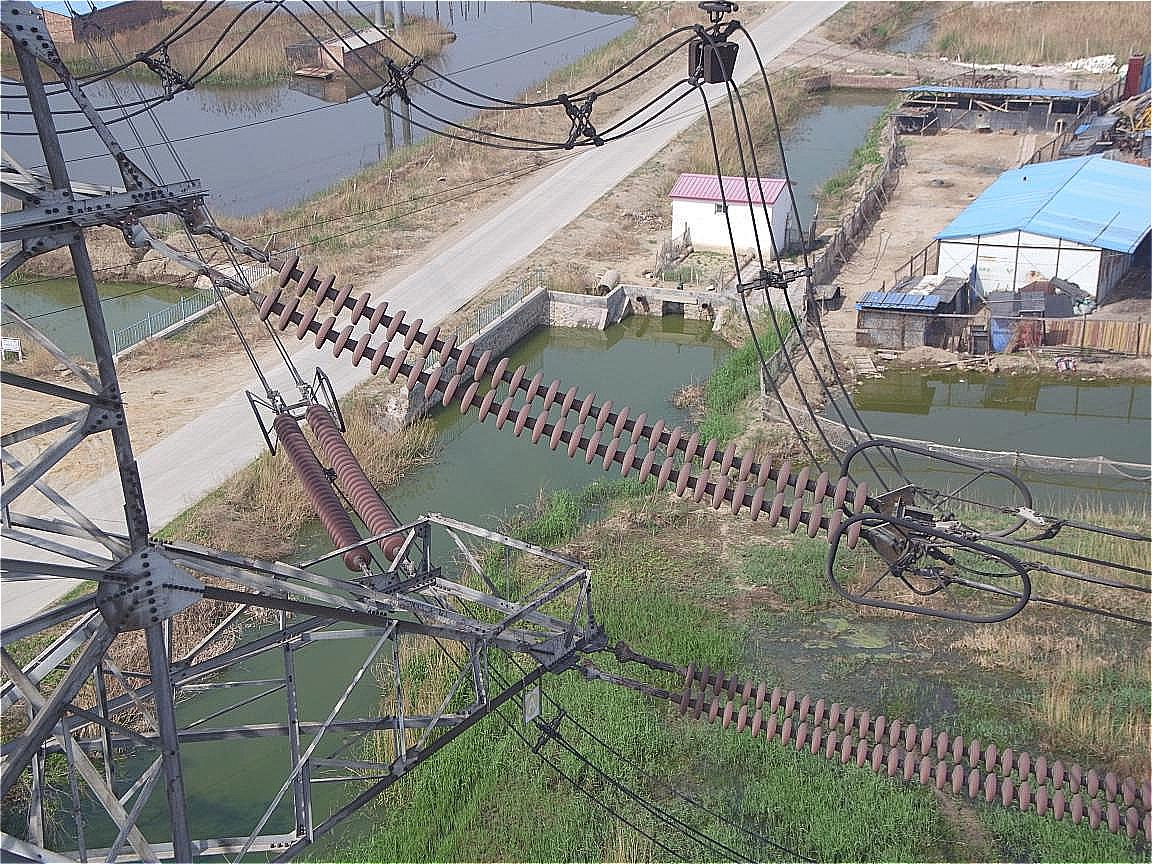insultor1: (228, 240, 885, 553), (638, 649, 1152, 847)
